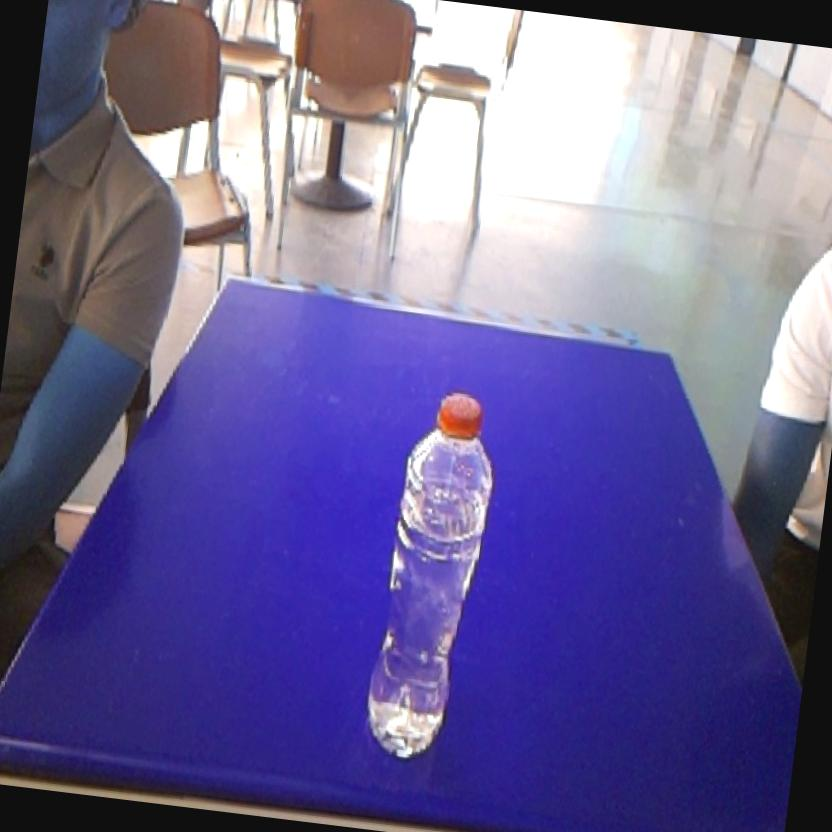no_label: (351, 380, 510, 774)
